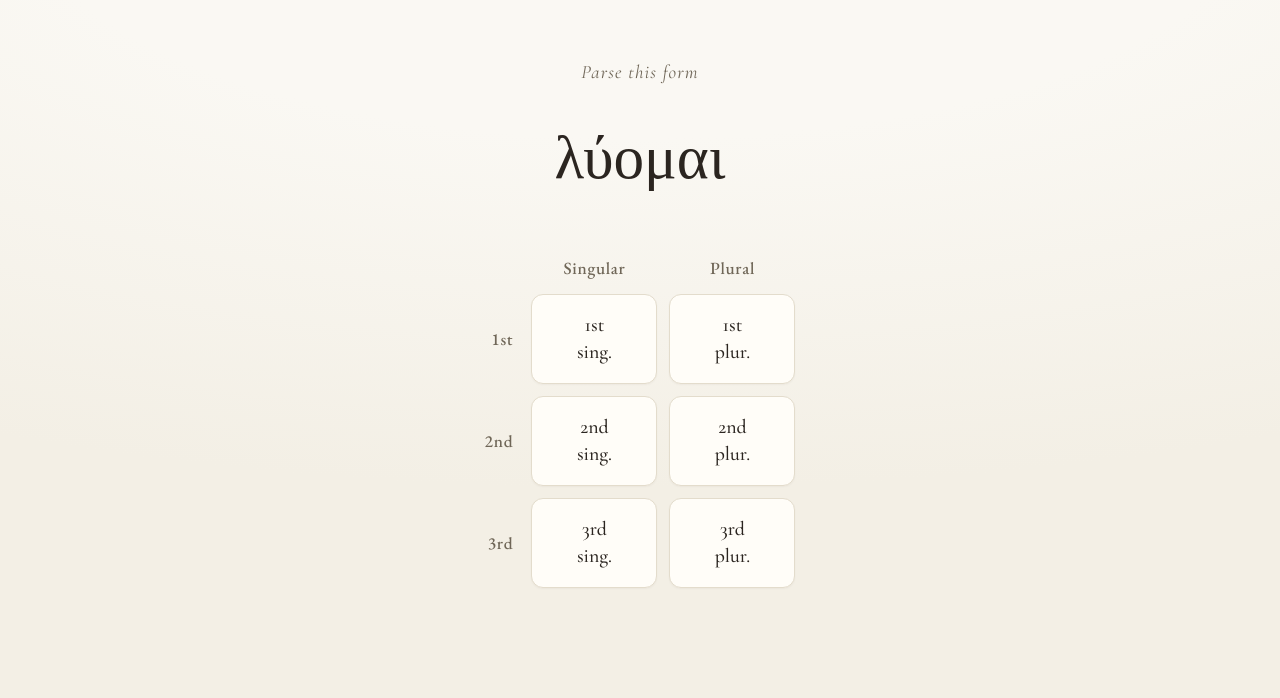
Scenario: PersonNumberParseGame › keeps every missed form in the missed answers list
The width and height of the screenshot is (1280, 698).
Click the 4th button with class "cell".
click(732, 441)  # box x1=670 y1=396 x2=796 y2=486
(page scrolled)
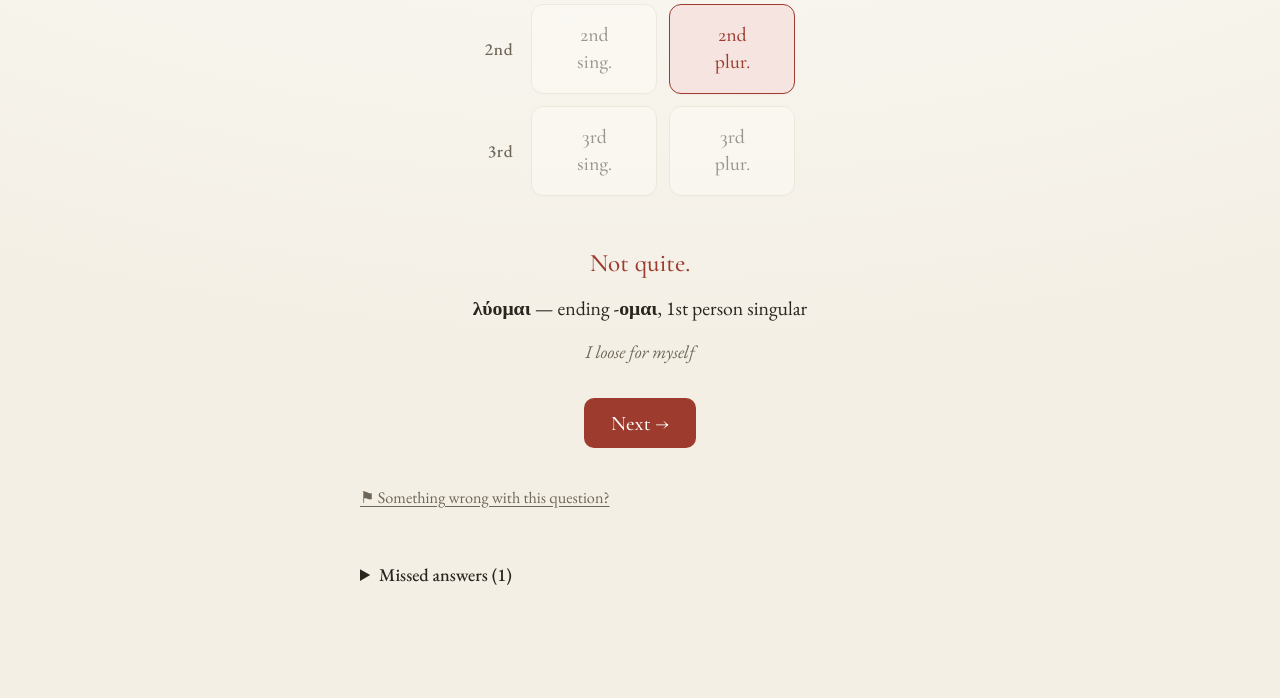
Click the button with class "next".
click(640, 423)  # box x1=584 y1=398 x2=696 y2=448
(page scrolled)
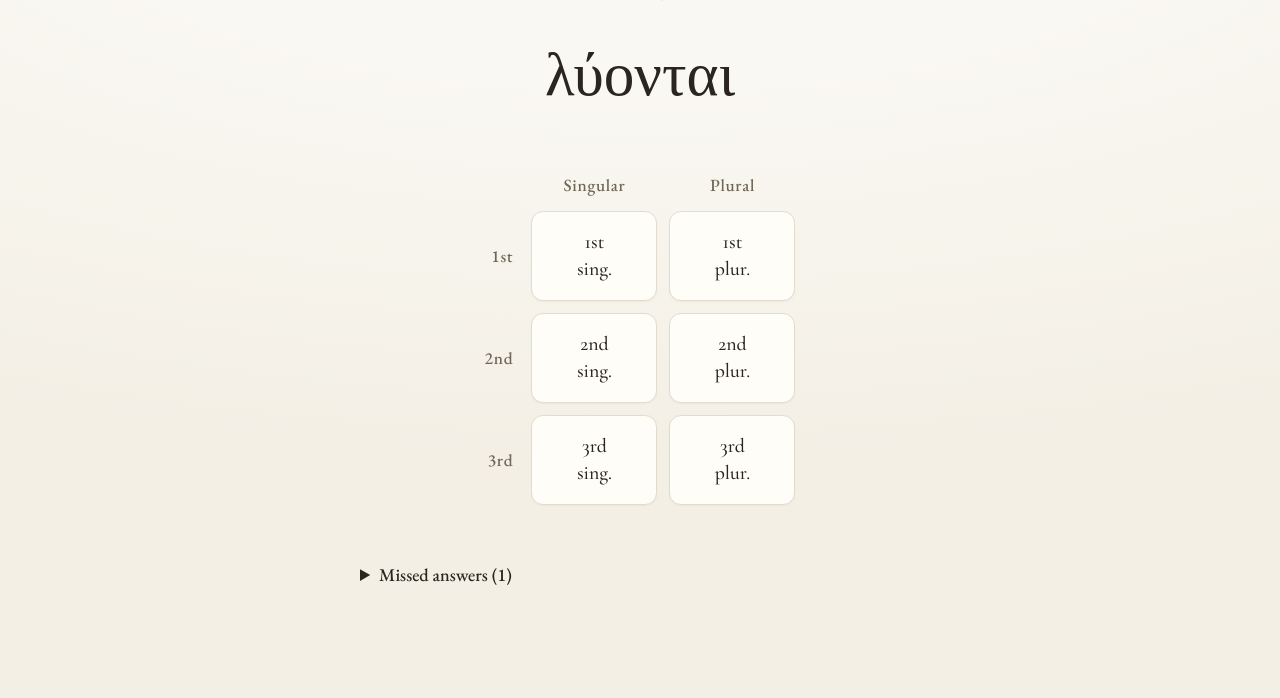
Click the 1st button with class "cell".
click(594, 256)  # box x1=532 y1=211 x2=658 y2=301
(page scrolled)
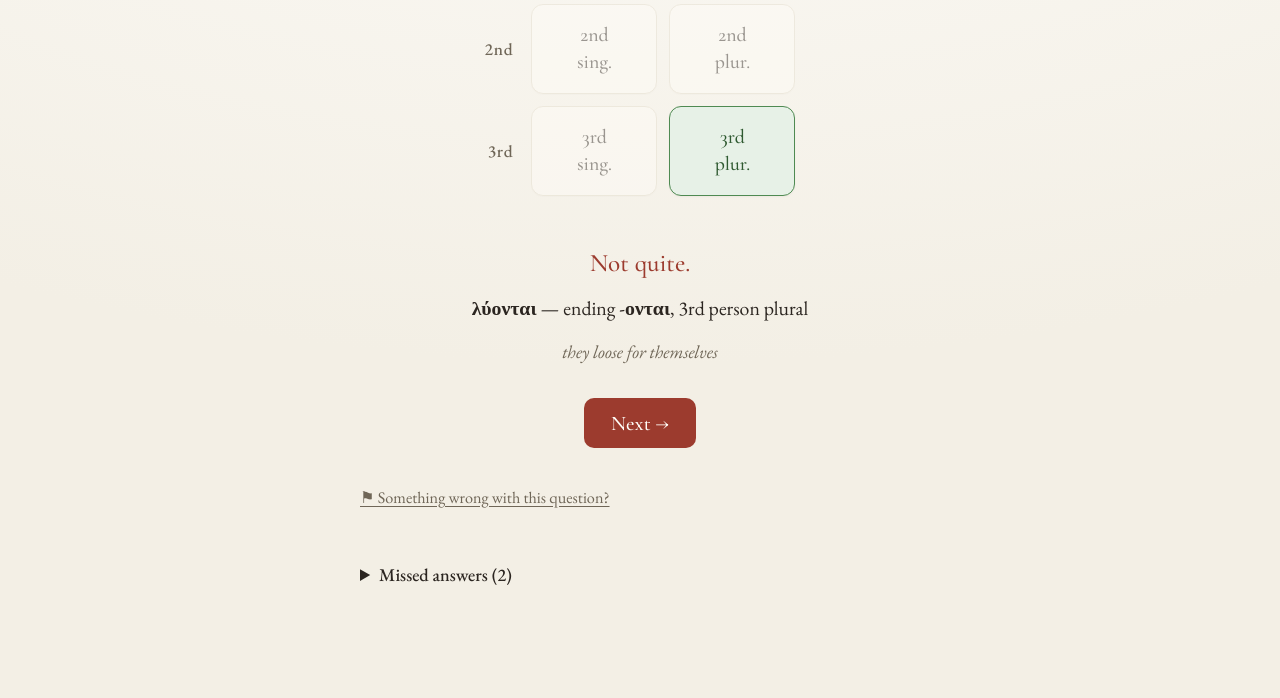
Check: the heading "Missed answers (2)" is shown, box x1=379 y1=563 x2=512 y2=586
